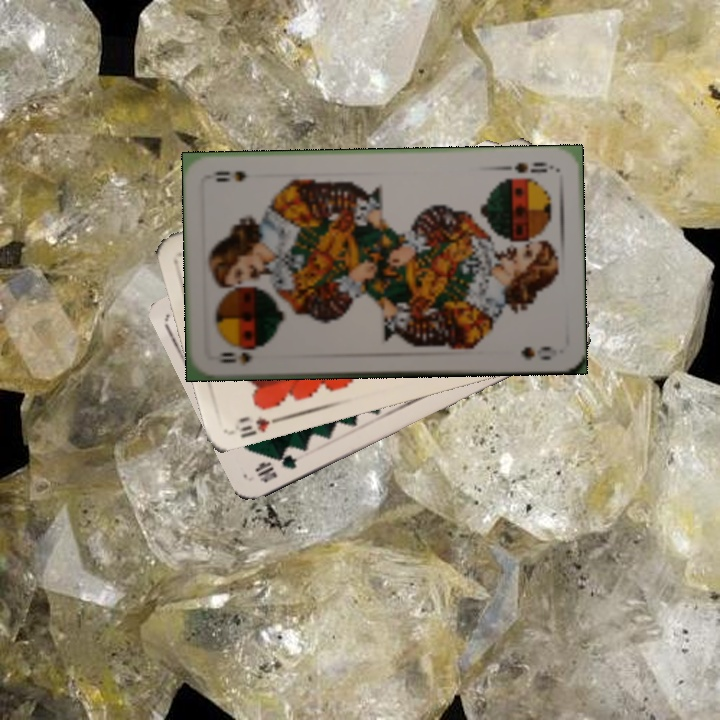G10: (251, 450, 299, 485)
H10: (235, 411, 287, 441)
SO: (497, 158, 556, 176), (211, 348, 255, 368)
